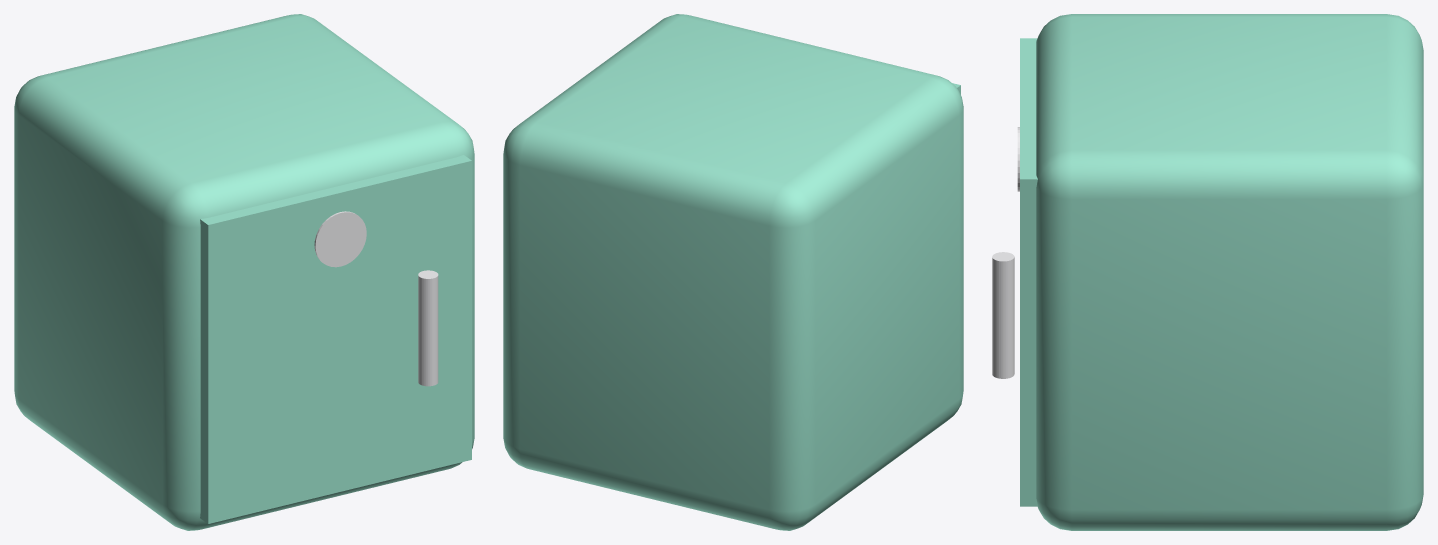
Rendered from MiniFridge_v4_retro_mint.fbx.
The picture shows the model from 3 angles, left to right: view 1: azimuth 30°, elevation 25°; view 2: azimuth 150°, elevation 25°; view 3: azimuth 270°, elevation 25°; orthographic projection. The views are drawn at different scales.
Parts seen in each view (by area): view 1: Logo; view 2: Logo; view 3: Logo.
Part boxes in pixels (box(x1,y1,x2,y2)): Logo: box(14, 14, 474, 530); Logo: box(503, 14, 963, 530); Logo: box(992, 14, 1423, 530).
Bounding box in the file's own units: 0.42 × 0.45 × 0.466.
